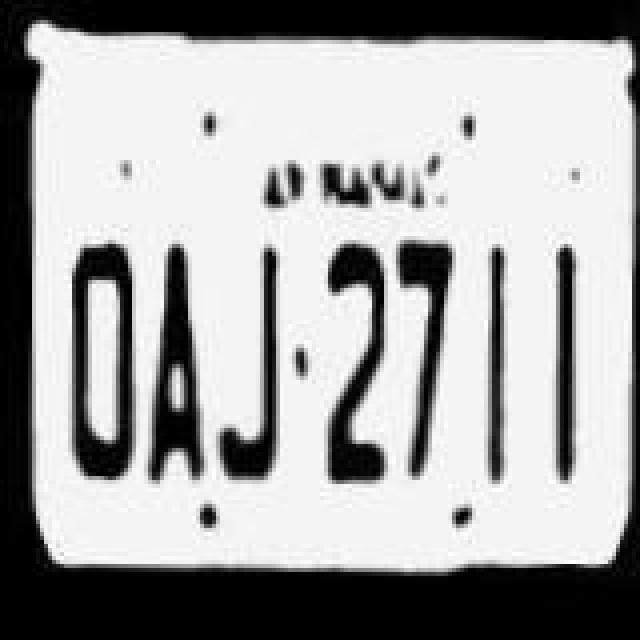1: (534, 232, 594, 496), (462, 236, 522, 484)
2: (316, 228, 396, 480)
7: (386, 230, 462, 482)
A: (138, 242, 214, 494)
J: (208, 240, 296, 496)
O: (62, 236, 146, 492)
